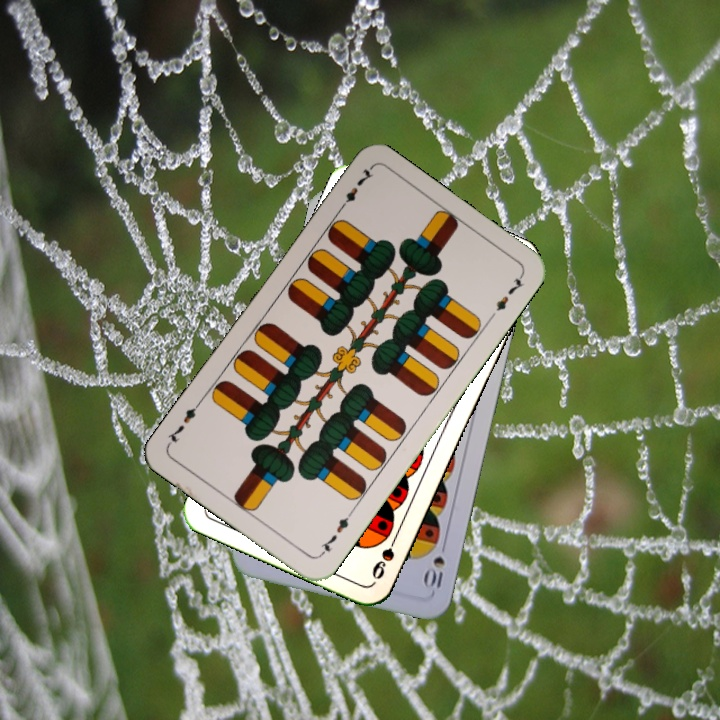E7: (334, 164, 376, 215), (315, 507, 355, 559)
S10: (421, 536, 450, 595)
S9: (367, 527, 402, 582)
